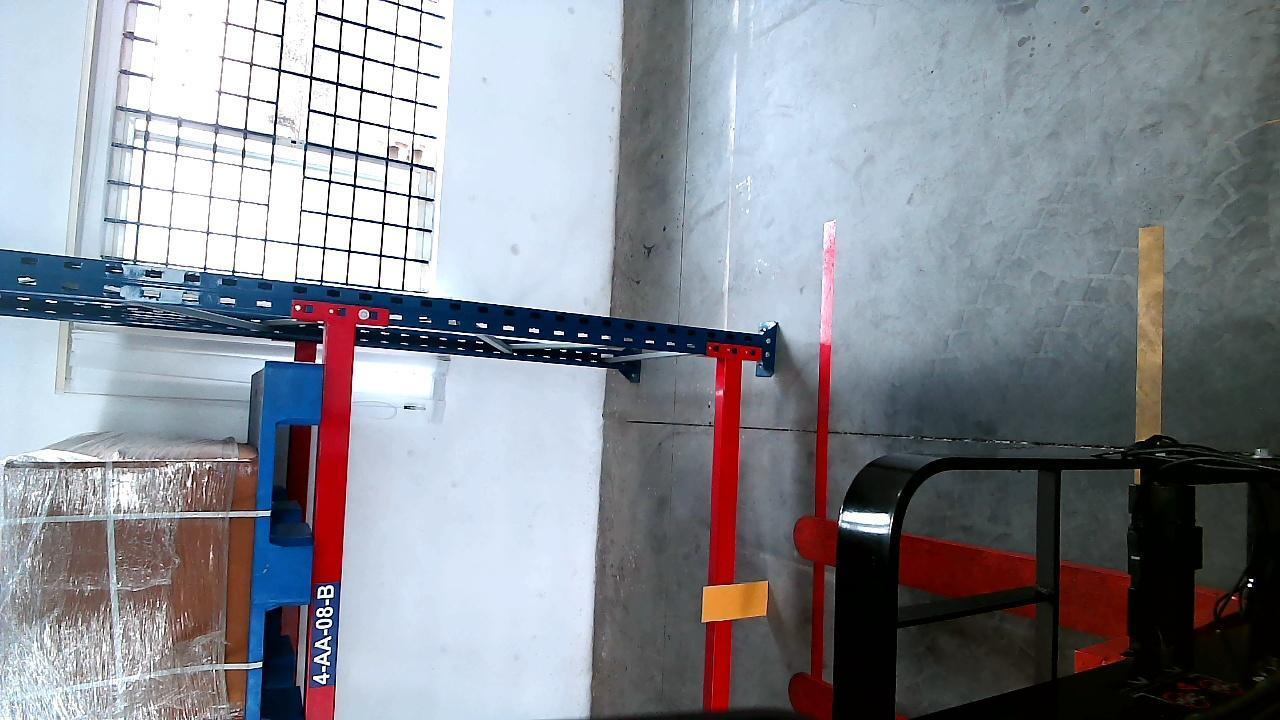h_rack: (308, 323, 352, 720), (710, 359, 742, 708)
orange_strip: (703, 582, 770, 621)
red_line: (809, 227, 837, 679)
small_pallet: (245, 359, 319, 720)
yellow_line: (1137, 222, 1163, 442)
